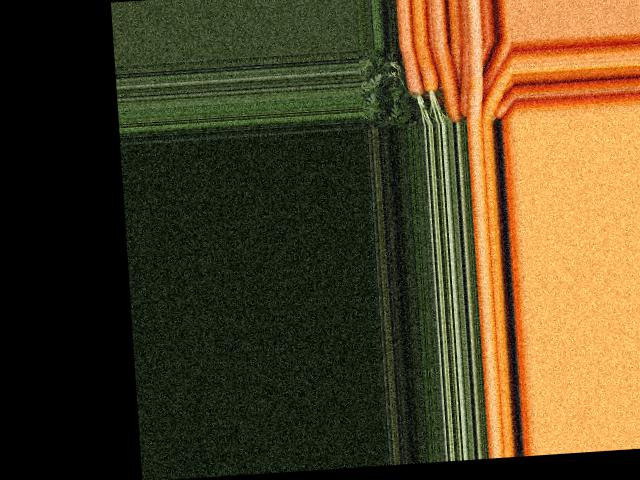carrot: (480, 56, 515, 119)
